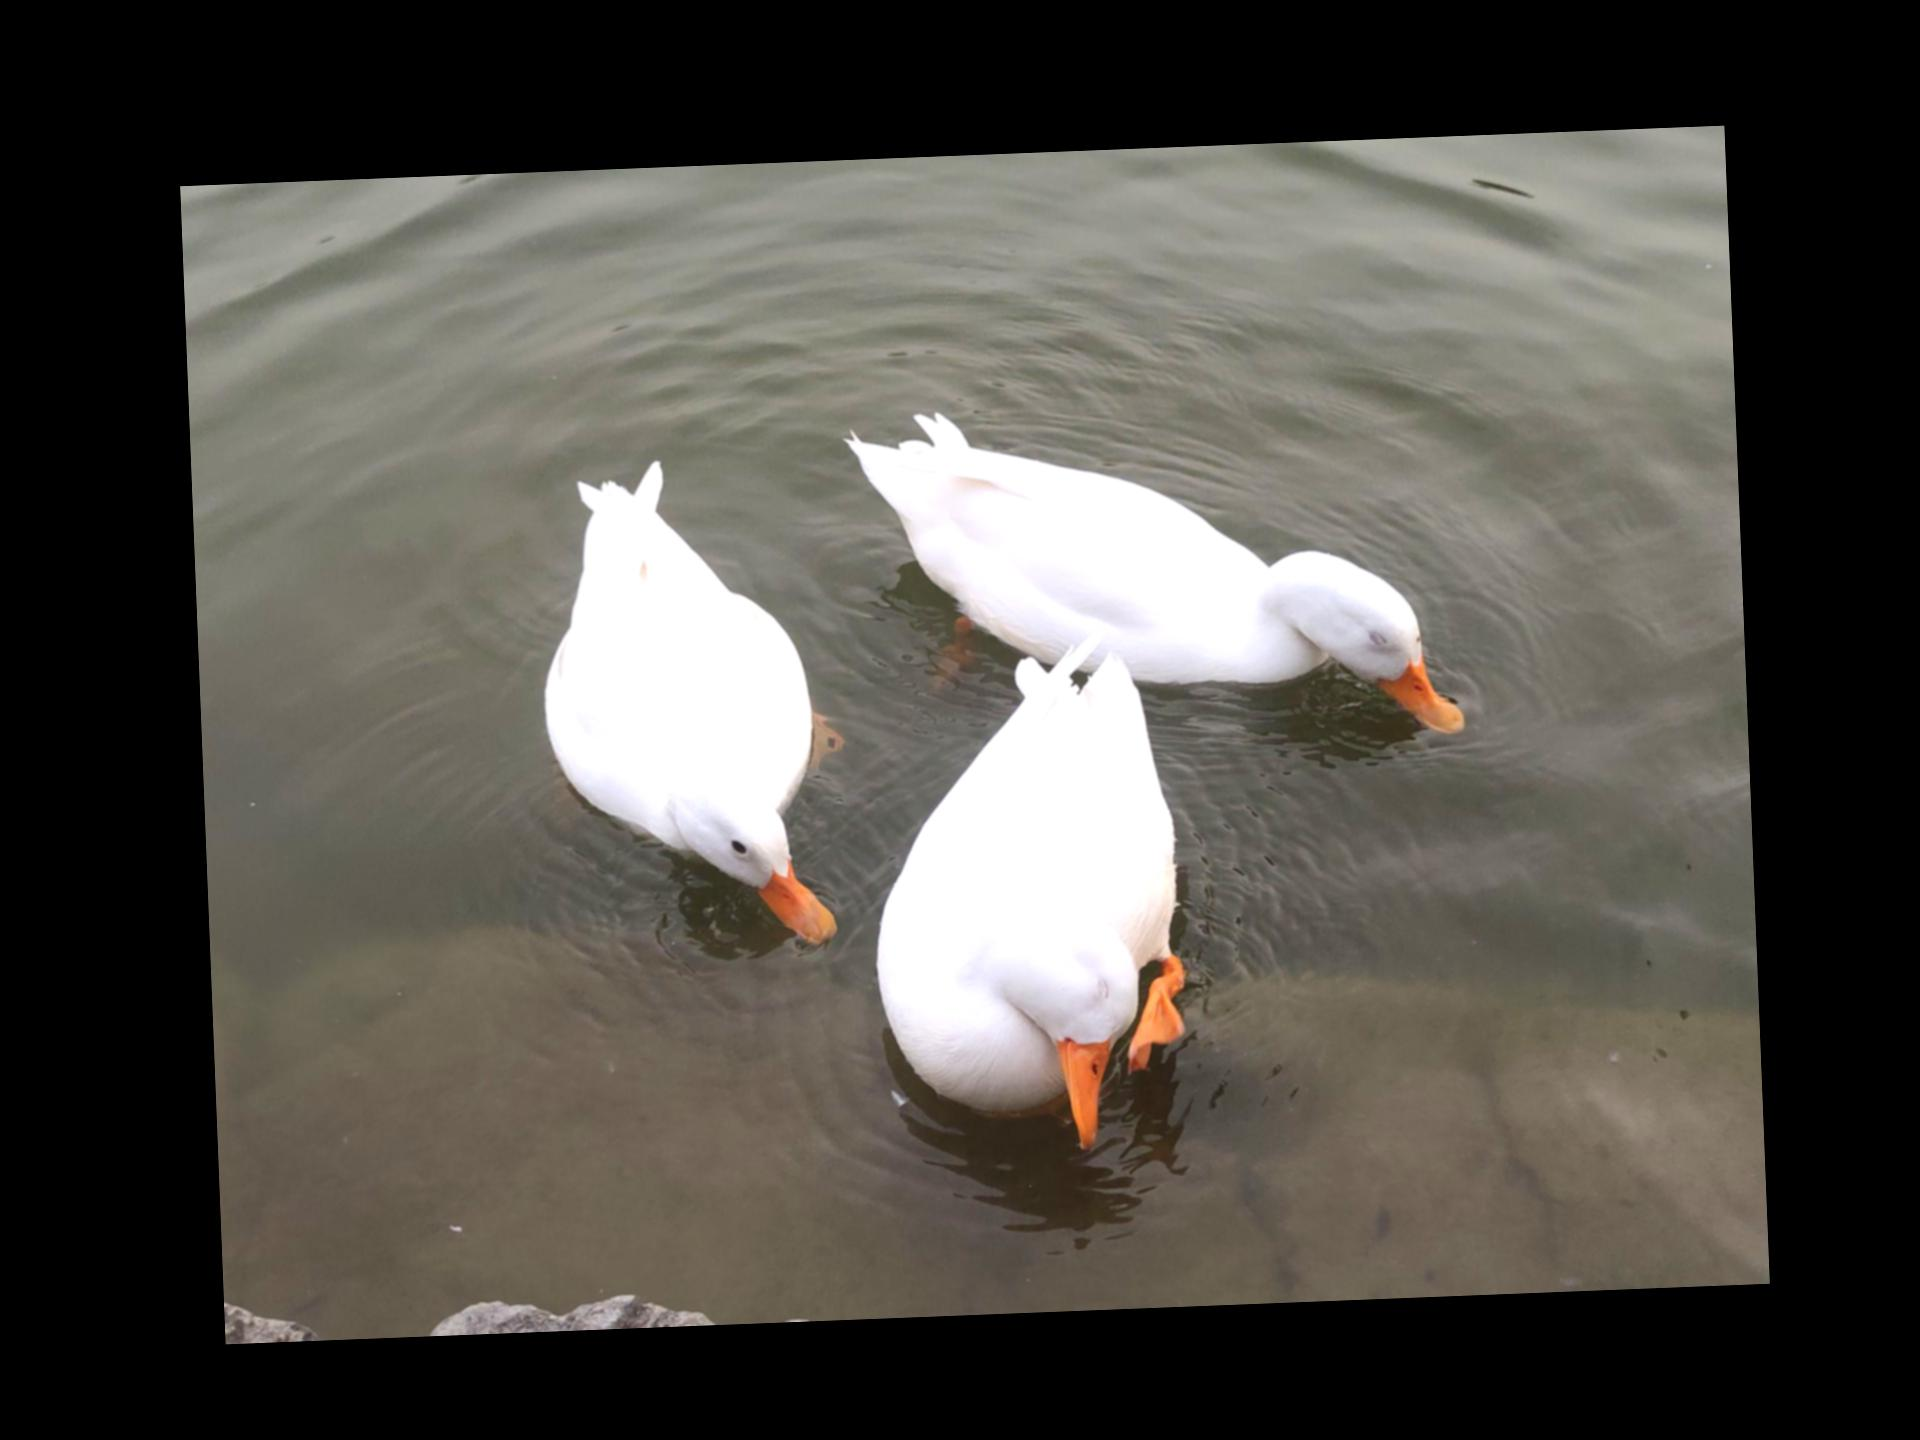duck: (821, 363, 1471, 774), (838, 602, 1215, 1154), (525, 443, 845, 965)
